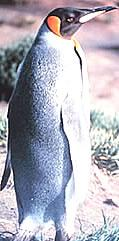king: (1, 1, 119, 233)
